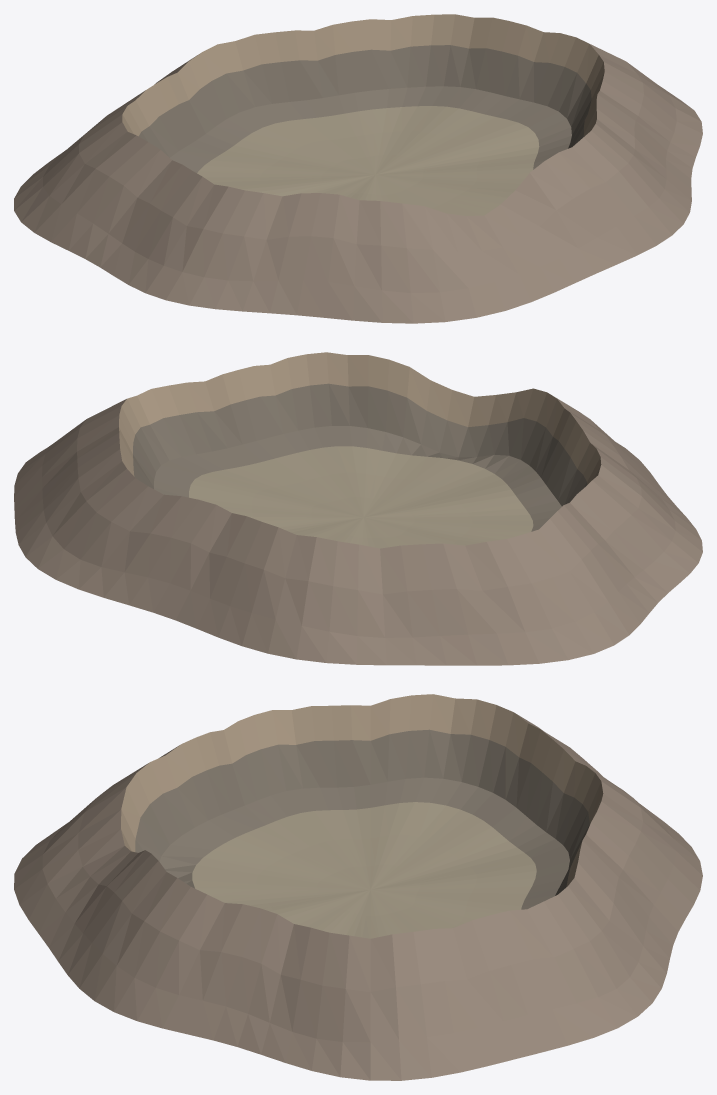
The picture shows the model from 3 angles, top to bottom: view 1: azimuth 30°, elevation 25°; view 2: azimuth 150°, elevation 25°; view 3: azimuth 270°, elevation 25°; orthographic projection. The views are drawn at different scales.
Parts seen in each view (by area): view 1: continuous_closed_volcanic_collapse_basin; view 2: continuous_closed_volcanic_collapse_basin; view 3: continuous_closed_volcanic_collapse_basin.
Part boxes in pixels (box(x1,y1,x2,y2)): continuous_closed_volcanic_collapse_basin: box(14, 14, 702, 323); continuous_closed_volcanic_collapse_basin: box(14, 352, 702, 665); continuous_closed_volcanic_collapse_basin: box(14, 694, 702, 1080).
Size of the model in its own units: 4076 by 529 by 3474.
